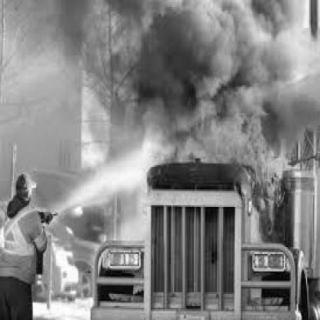Fire: (172, 94, 286, 183)
